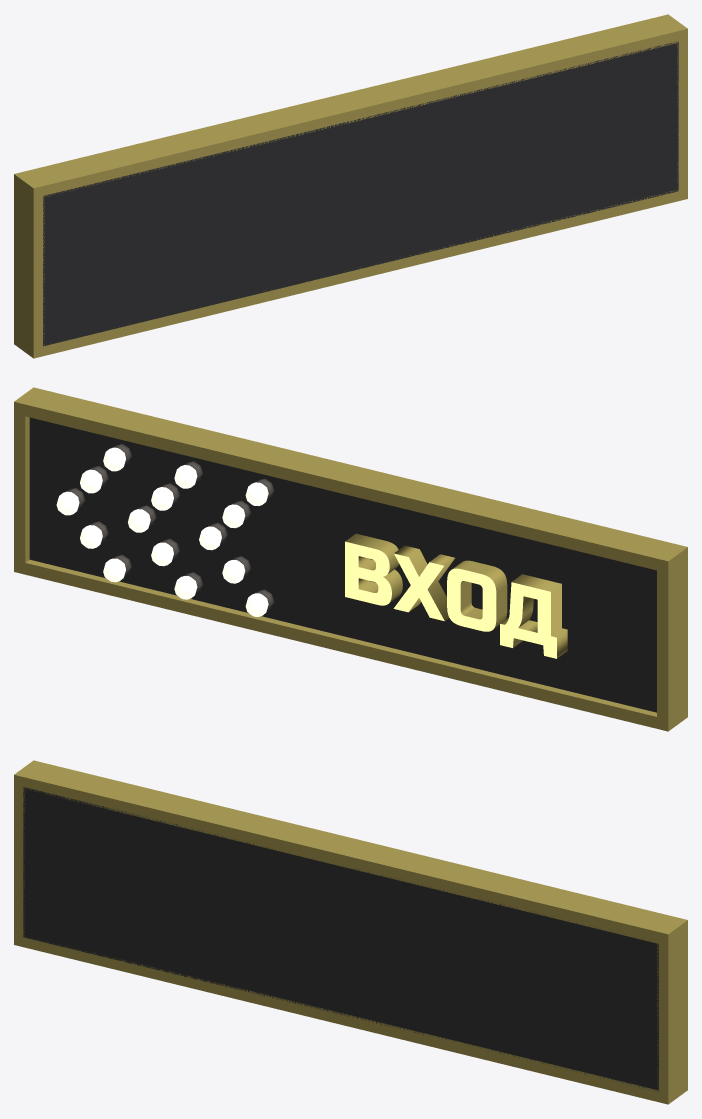
Rendered from arrow_entrance_left.glb.
3 renders of one model, top to bottom at view 1: azimuth 30°, elevation 25°; view 2: azimuth 150°, elevation 25°; view 3: azimuth 330°, elevation 25°, orthographic.
Visible parts, largest first — view 1: Sign; view 2: Sign, BulbsA, BulbsB; view 3: Sign.
Boxes of the visible parts, box(x1,y1,x2,y2) form: Sign: box(14, 14, 687, 358); Sign: box(14, 387, 687, 731); BulbsA: box(56, 447, 268, 616); BulbsB: box(128, 465, 197, 599); Sign: box(14, 760, 687, 1104).
Bounding box in the file's own units: 3.46 × 0.86 × 0.268.
